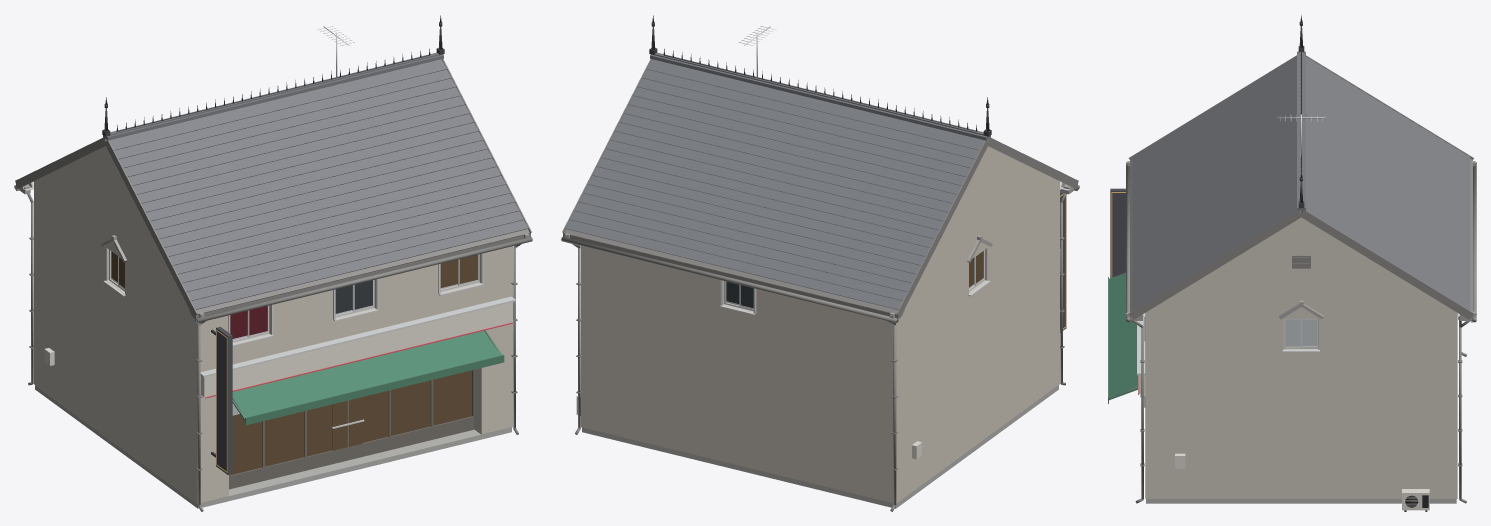
Rendered from blk_cornerbooks.glb.
The picture shows the model from 3 angles, left to right: view 1: azimuth 30°, elevation 25°; view 2: azimuth 150°, elevation 25°; view 3: azimuth 270°, elevation 25°; orthographic projection. The views are drawn at different scales.
Parts seen in each view (by area): view 1: blk_cornerbooks; view 2: blk_cornerbooks; view 3: blk_cornerbooks.
Boxes of the visible parts, left/top/right/bottom form: blk_cornerbooks: left=14, top=15, right=532, bottom=511; blk_cornerbooks: left=561, top=15, right=1079, bottom=511; blk_cornerbooks: left=1108, top=15, right=1476, bottom=511.
Bounding box in the file's own units: 10.99 × 10.99 × 10.64.
